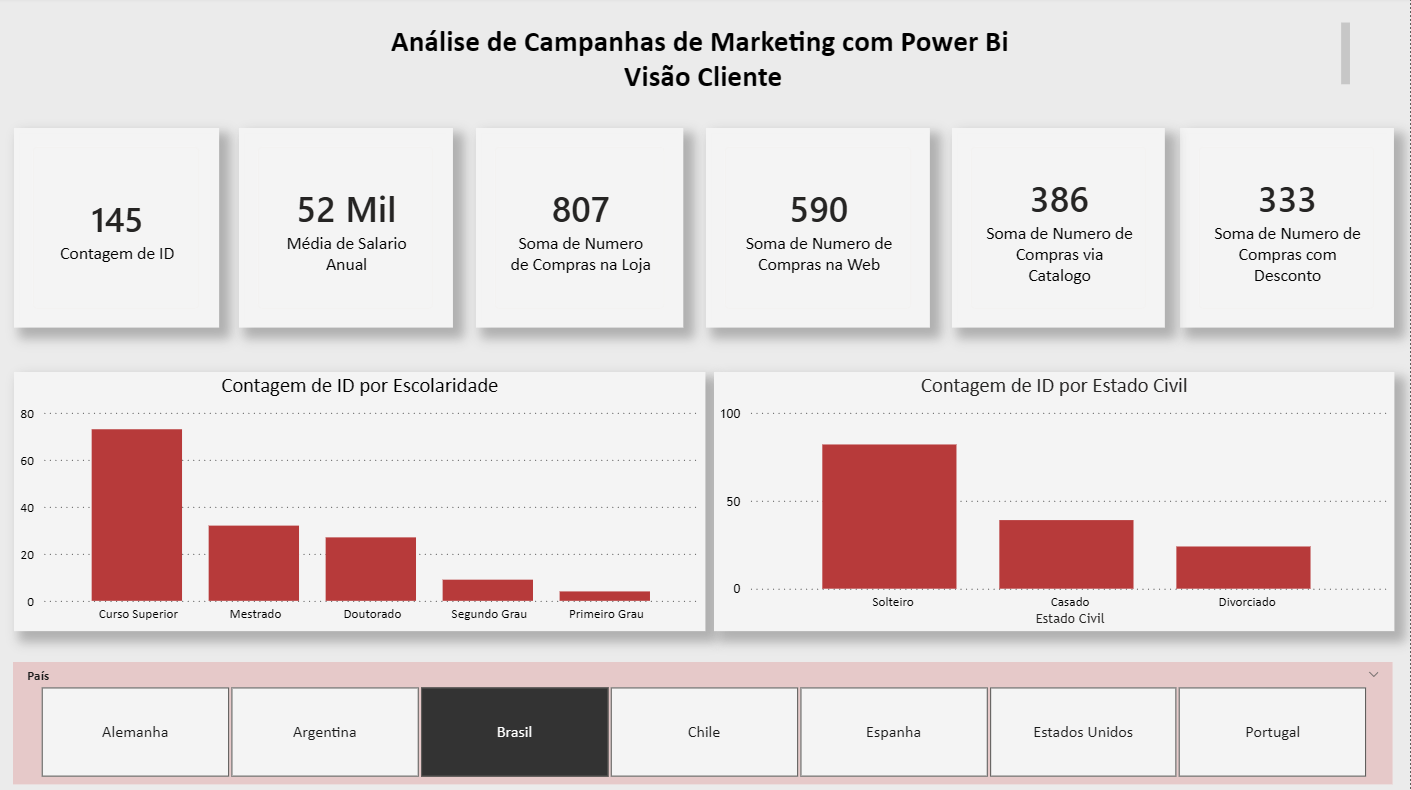

Layout of this report page (visuals, bound fields, positions):
{"tool":"powerbi","page":{"name":"Visão Cliente","canvas":[1280,720],"ordinal":0},"visuals":[{"type":"cardVisual","fields":{"Data":["CountNonNull(DadosMarketing.ID)"]},"box":[14.8,119.1,185.6,181],"z":0},{"type":"cardVisual","fields":{"Data":["Avg(DadosMarketing.Salario Anual)"]},"box":[218.9,119.1,193.9,181],"z":1000},{"type":"cardVisual","fields":{"Data":["Sum(DadosMarketing.Numero de Compras na Loja)"]},"box":[433.1,119.1,188.4,181],"z":2000},{"type":"cardVisual","fields":{"Data":["Sum(DadosMarketing.Numero de Compras na Web)"]},"box":[641.8,119.1,203.2,181],"z":3000},{"type":"cardVisual","fields":{"Data":["Sum(DadosMarketing.Numero de Compras com Desconto)"]},"box":[1072.2,119.1,193.9,181],"z":4000},{"type":"cardVisual","fields":{"Data":["Sum(DadosMarketing.Numero de Compras via Catalogo)"]},"box":[865.3,119.1,193,181],"z":5000},{"type":"textbox","box":[48.9,18.5,1182.1,70.2],"z":6000},{"type":"clusteredColumnChart","fields":{"Category":["DadosMarketing.Escolaridade"],"Y":["CountNonNull(DadosMarketing.ID)"]},"box":[14.8,339.9,627.1,235.5],"z":7000},{"type":"clusteredColumnChart","fields":{"Category":["DadosMarketing.Estado Civil"],"Y":["CountNonNull(DadosMarketing.ID)"]},"box":[649.2,339.9,616.9,235.5],"z":8000},{"type":"slicer","fields":{"Values":["DadosMarketing.Pais"]},"box":[13.9,603.1,1251.4,110.8],"z":9000}]}

Visuals, with their boxes in screenshot pixels (x1, y1, x2, y2), scaled from the page's 1280x720 canvas onto the 1411x790 screenshot:
cardVisual - CountNonNull(DadosMarketing.ID): [x1=16, y1=131, x2=221, y2=329]
cardVisual - Avg(DadosMarketing.Salario Anual): [x1=241, y1=131, x2=455, y2=329]
cardVisual - Sum(DadosMarketing.Numero de Compras na Loja): [x1=477, y1=131, x2=685, y2=329]
cardVisual - Sum(DadosMarketing.Numero de Compras na Web): [x1=707, y1=131, x2=931, y2=329]
cardVisual - Sum(DadosMarketing.Numero de Compras com Desconto): [x1=1182, y1=131, x2=1396, y2=329]
cardVisual - Sum(DadosMarketing.Numero de Compras via Catalogo): [x1=954, y1=131, x2=1167, y2=329]
textbox: [x1=54, y1=20, x2=1357, y2=97]
clusteredColumnChart - DadosMarketing.Escolaridade x CountNonNull(DadosMarketing.ID): [x1=16, y1=373, x2=708, y2=631]
clusteredColumnChart - DadosMarketing.Estado Civil x CountNonNull(DadosMarketing.ID): [x1=716, y1=373, x2=1396, y2=631]
slicer - DadosMarketing.Pais: [x1=15, y1=662, x2=1395, y2=783]
